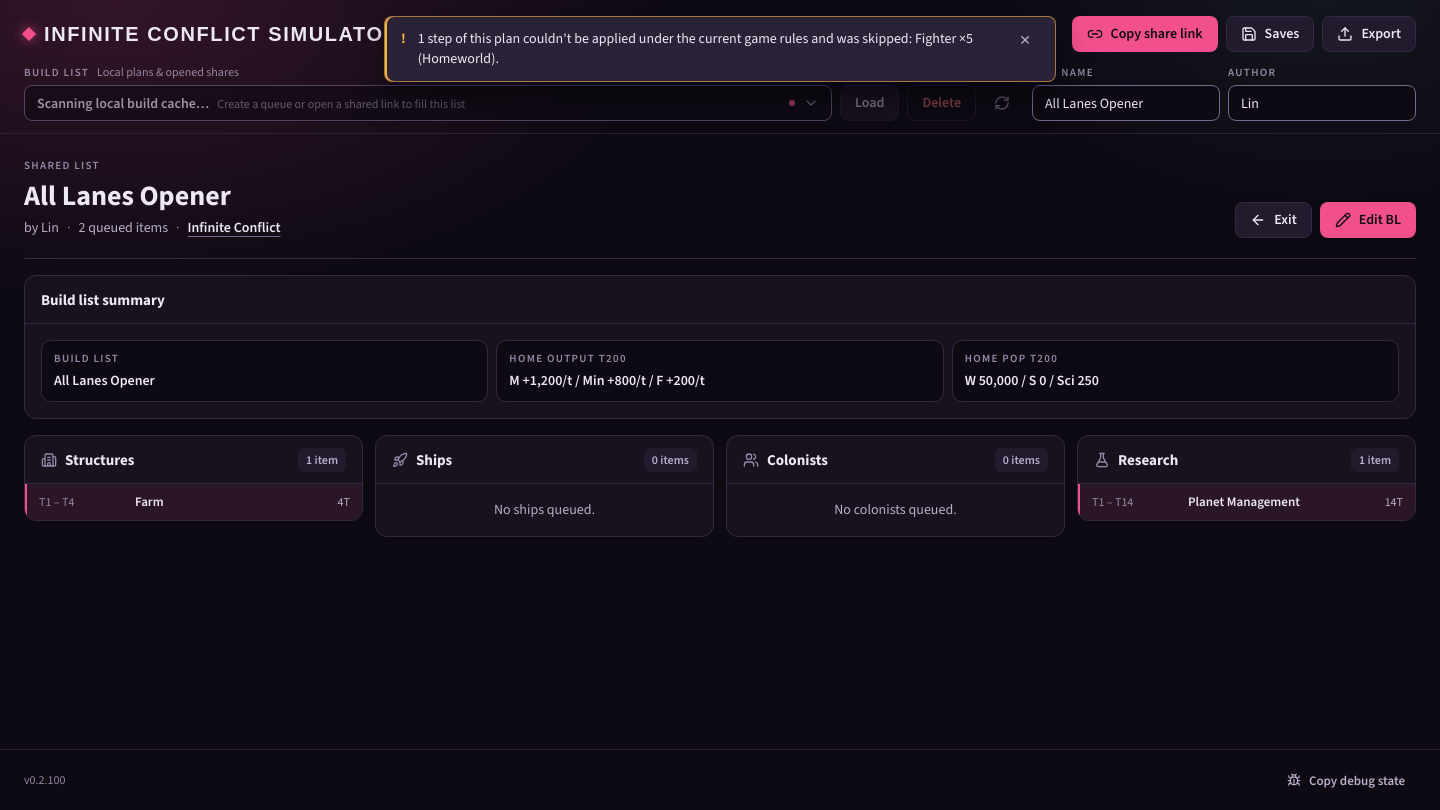
it: share link flow › shared build preview shows all lanes before editing
Expected: the button "Exit" is shown, [1235,202,1312,238]
Expected: the heading "All Lanes Opener" is shown, [24,177,231,214]
Click the button "Edit BL". click: [1368, 220]
box: [1320,202,1416,238]
(page scrolled)
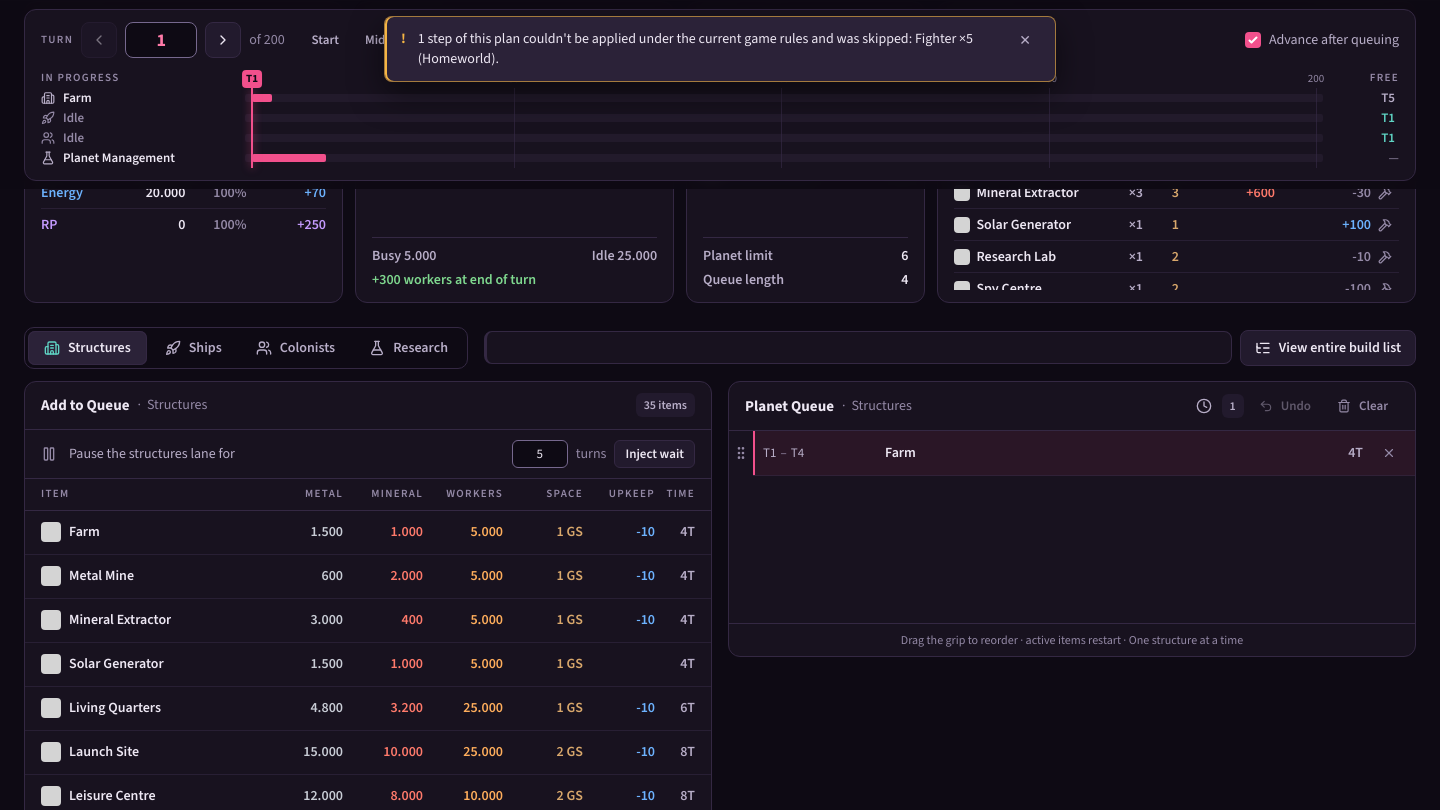
Expected: the heading "Add to Queue" is shown, [41,395,129,415]
Expected: the heading "Planet Queue" is shown, [745,396,834,416]
